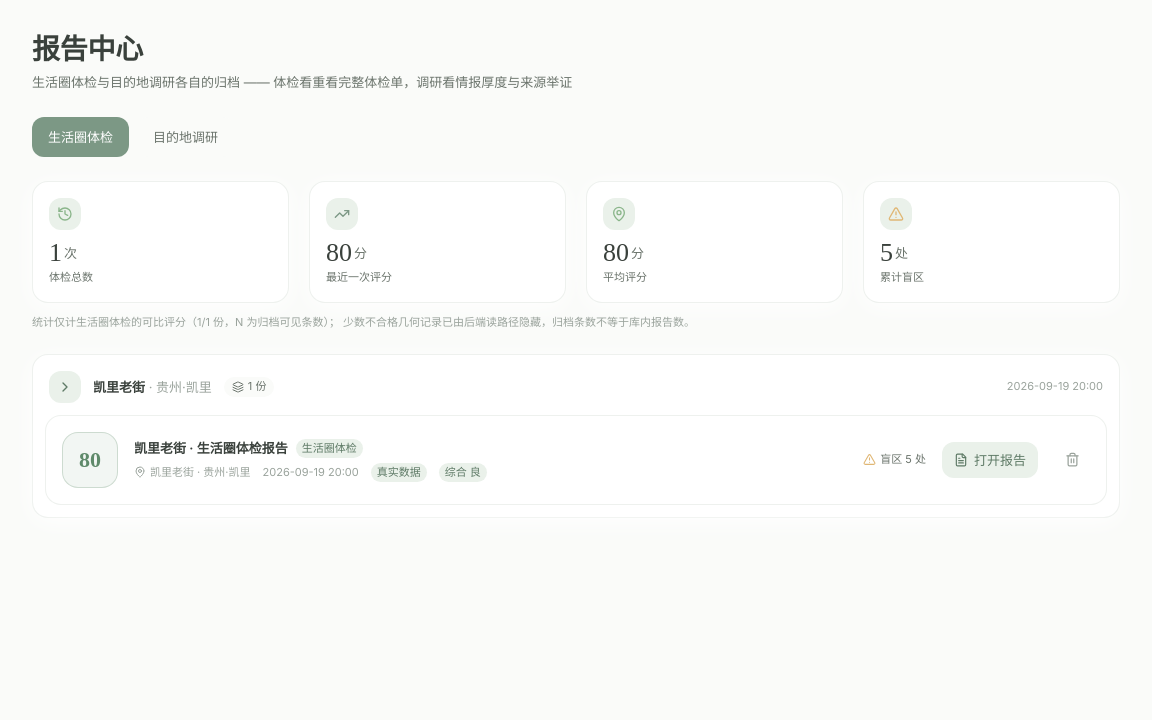
Test case: 报告中心 · 删除归档记录 › 删除失败 → 点名成因并说明记录仍在，不当成已删除
Expected: the button "凯里老街 · 生活圈体检报告" is shown, [134,438,288,459]
Step 1. Click the button named "删除生活圈体检" → (1072, 460), box [1054,442,1090,478]
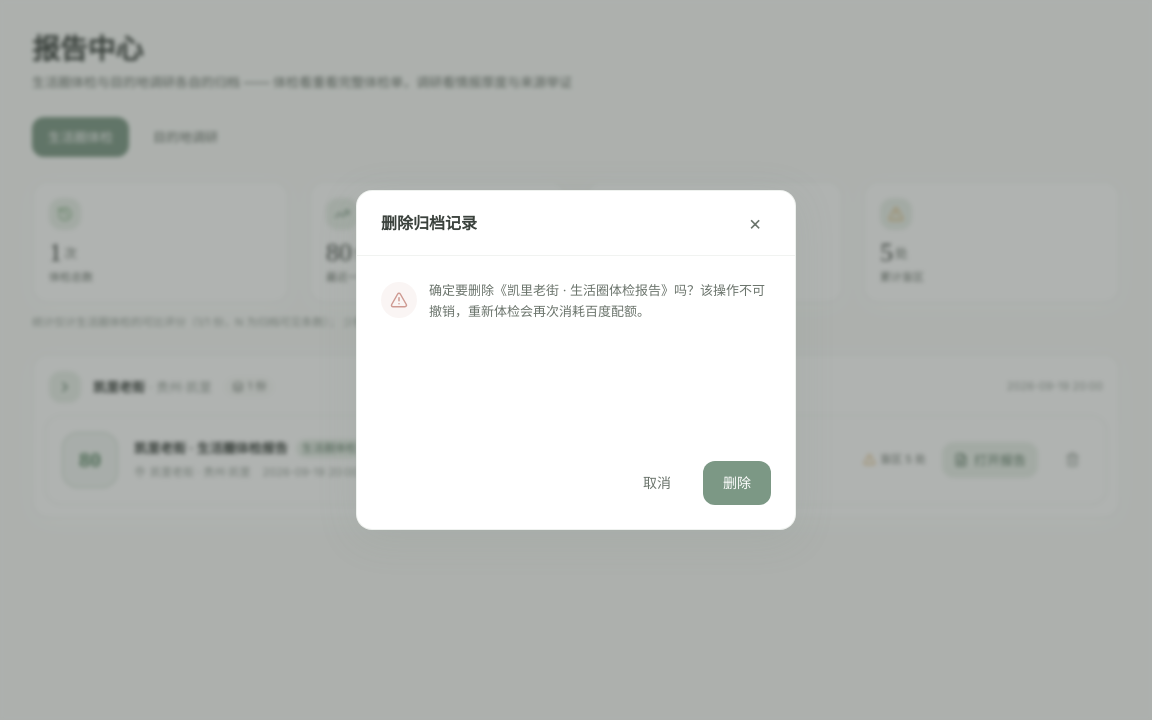
Expected: the dialog is shown
Expected: the text "确定要删除《凯里老街 · 生活圈体检报告》吗？该操作不可撤销，重新体检会再次消耗百度配额。" is shown, [429,280,771,322]
Step 2. Click the button "删除" → (737, 483), box [703,461,771,505]
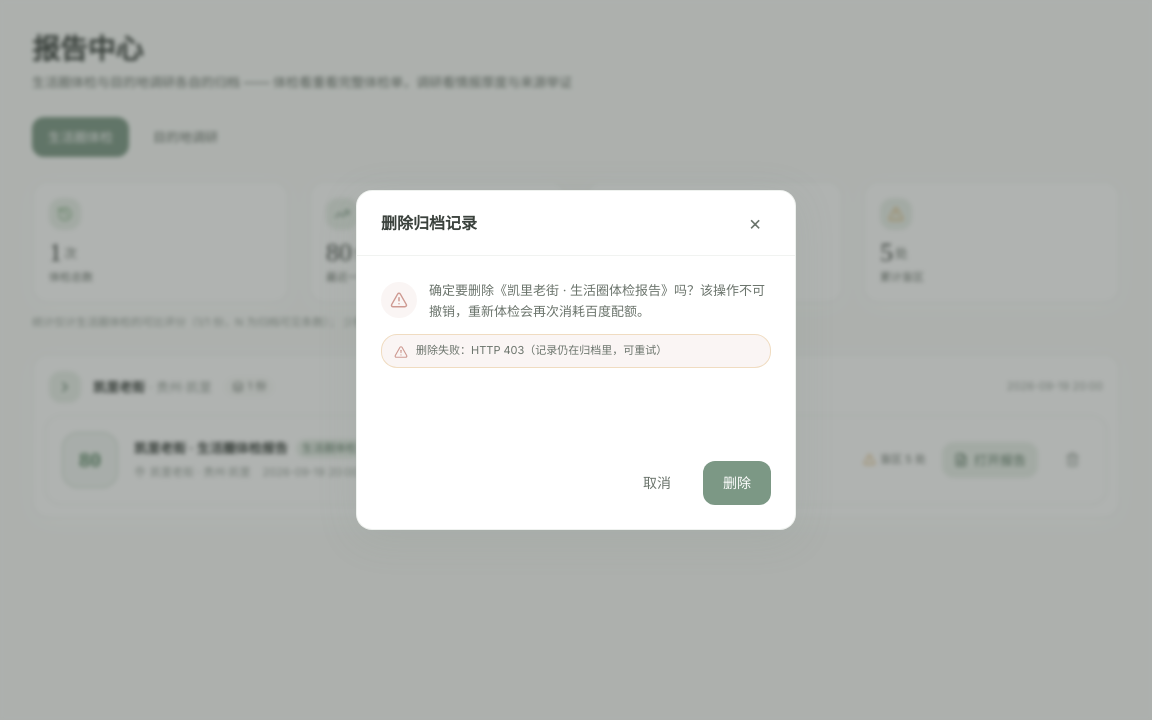
Expected: the text "删除失败：HTTP 403（记录仍在归档里，可重试）" is shown, [416,343,667,359]
